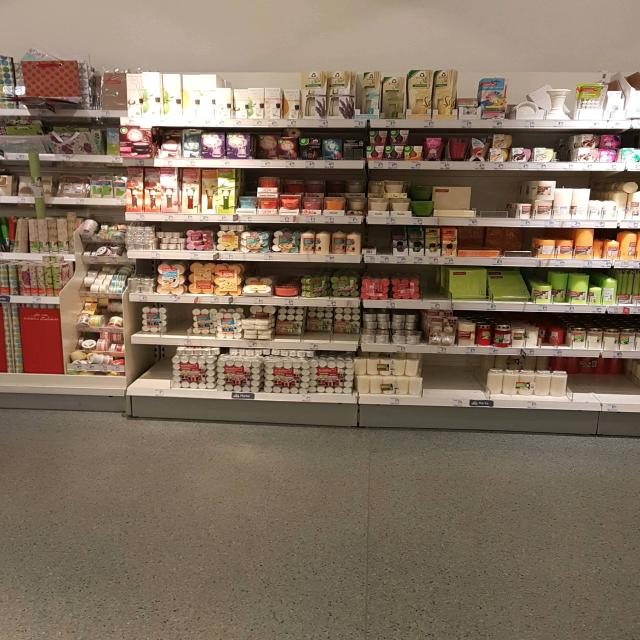void: (573, 359, 640, 398), (426, 355, 479, 391), (131, 348, 168, 396), (478, 173, 507, 222)
